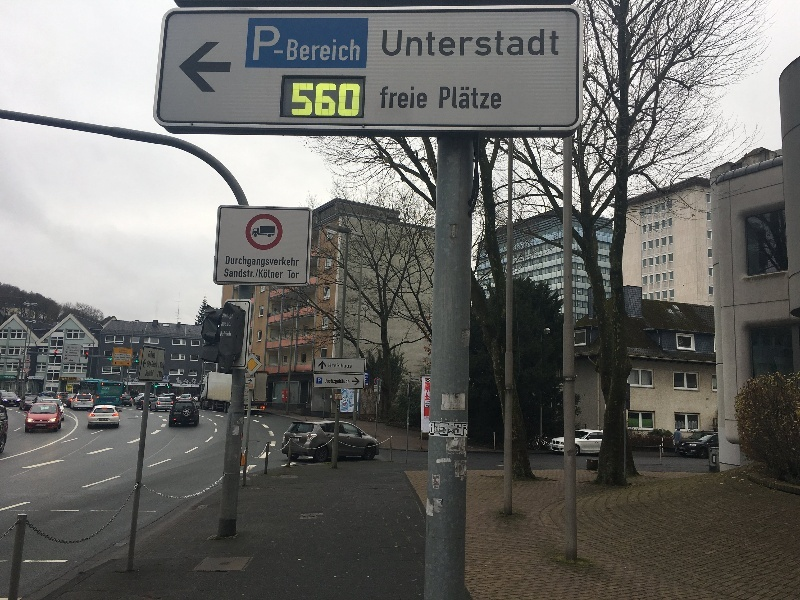text: (257, 23, 272, 64), (273, 23, 288, 64), (289, 23, 304, 64), (305, 23, 320, 64), (321, 23, 336, 64), (337, 23, 352, 64), (305, 81, 320, 117), (321, 81, 336, 117), (337, 81, 352, 117), (385, 28, 400, 58), (401, 28, 416, 58), (417, 28, 432, 58), (433, 28, 448, 58), (449, 28, 464, 58), (465, 28, 480, 58), (481, 28, 496, 58), (497, 28, 512, 58), (513, 28, 528, 58), (529, 28, 544, 58), (545, 28, 560, 58), (293, 81, 304, 117), (449, 85, 464, 111), (465, 85, 480, 111), (481, 85, 496, 111), (385, 85, 400, 110), (401, 85, 416, 110), (353, 23, 362, 64), (353, 81, 361, 117), (417, 85, 428, 110), (433, 421, 449, 436), (241, 255, 256, 269), (257, 255, 272, 269), (273, 255, 288, 269), (440, 85, 448, 111), (226, 255, 240, 269), (115, 349, 128, 362), (65, 346, 80, 357), (225, 268, 240, 278), (257, 269, 272, 279), (289, 255, 299, 269), (241, 268, 255, 278), (497, 85, 502, 111), (454, 423, 464, 436), (273, 269, 284, 279), (289, 270, 300, 279), (149, 351, 160, 360), (146, 370, 160, 377), (148, 360, 160, 368), (381, 85, 384, 110), (337, 363, 352, 368), (337, 379, 350, 384), (225, 313, 234, 320), (343, 395, 352, 401), (67, 384, 80, 388), (326, 379, 336, 384), (102, 386, 112, 391), (425, 389, 432, 396), (65, 377, 77, 381), (225, 331, 232, 337), (255, 23, 256, 64), (225, 322, 233, 327), (465, 423, 468, 436), (4, 376, 16, 379), (36, 424, 48, 427), (329, 363, 336, 368), (293, 438, 304, 441), (383, 28, 384, 58), (430, 421, 432, 436), (161, 384, 176, 386), (129, 349, 131, 362), (426, 379, 432, 383), (425, 385, 432, 388), (221, 331, 224, 337), (161, 360, 163, 368), (60, 377, 64, 381), (425, 397, 432, 399), (81, 378, 88, 380), (426, 383, 432, 385), (426, 403, 432, 405), (426, 405, 432, 407), (158, 371, 160, 377), (222, 322, 224, 327), (318, 378, 320, 383), (427, 401, 432, 403), (161, 371, 162, 377), (321, 378, 322, 383), (79, 378, 80, 380)
